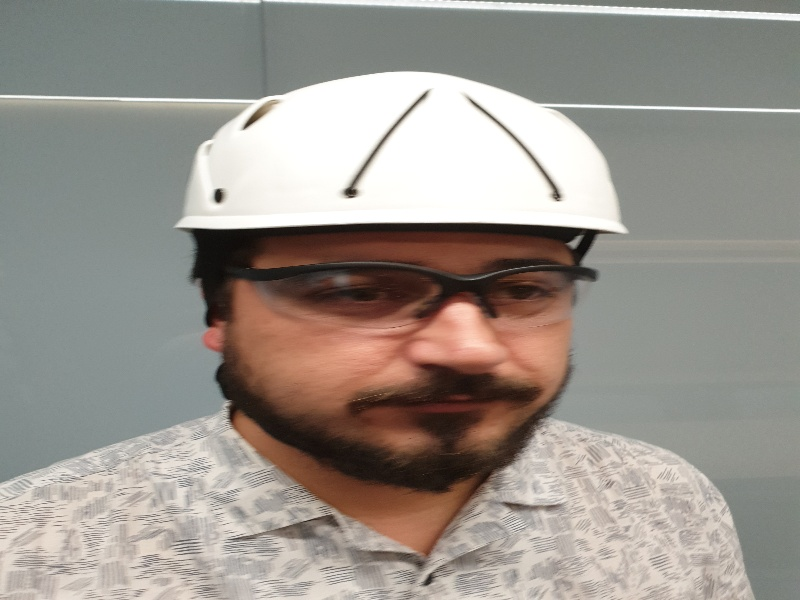Baret: (191, 69, 623, 237)
Gozluk: (230, 262, 599, 331)
